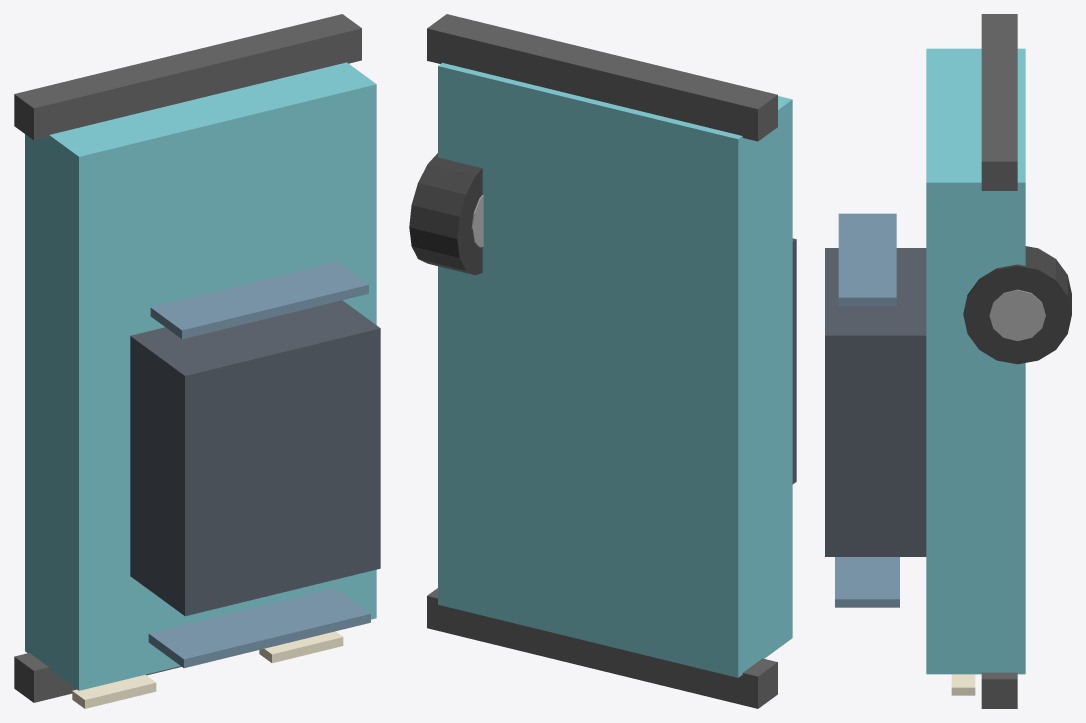
The model's file is vehicle_compact_microcar.glb.
3 views of the same model, side by side, from view 1: azimuth 30°, elevation 25°; view 2: azimuth 150°, elevation 25°; view 3: azimuth 270°, elevation 25° (orthographic). The views are drawn at different scales.
Parts seen in each view (by area): view 1: body, dark_cabin, rear_bumper, front_window, rear_window, front_bumper, headlight_L, headlight_R; view 2: body, rear_bumper, front_bumper, wheel_tire, dark_cabin; view 3: body, dark_cabin, wheel_tire, rear_bumper, rear_window, front_window, wheel_hub, front_bumper, headlight_R.
Part boxes in pixels (left/top/right/bottom): body: left=25, top=62, right=376, bottom=690; dark_cabin: left=130, top=300, right=380, bottom=616; rear_bumper: left=14, top=14, right=361, bottom=140; front_window: left=148, top=588, right=370, bottom=668; rear_window: left=150, top=262, right=368, bottom=339; front_bumper: left=14, top=653, right=181, bottom=702; headlight_L: left=72, top=674, right=156, bottom=708; headlight_R: left=259, top=631, right=343, bottom=663; body: left=438, top=63, right=792, bottom=677; rear_bumper: left=427, top=14, right=777, bottom=141; front_bumper: left=427, top=588, right=777, bottom=708; wheel_tire: left=409, top=153, right=482, bottom=275; dark_cabin: left=792, top=238, right=796, bottom=484; body: left=926, top=48, right=1025, bottom=674; dark_cabin: left=825, top=248, right=926, bottom=556; wheel_tire: left=963, top=246, right=1071, bottom=364; rear_bumper: left=981, top=14, right=1017, bottom=190; rear_window: left=838, top=213, right=896, bottom=305; front_window: left=835, top=557, right=899, bottom=607; wheel_hub: left=989, top=289, right=1045, bottom=341; front_bumper: left=981, top=672, right=1017, bottom=708; headlight_R: left=951, top=674, right=975, bottom=695.
Size of the model in its own units: 1.93 by 3.35 by 1.36.
